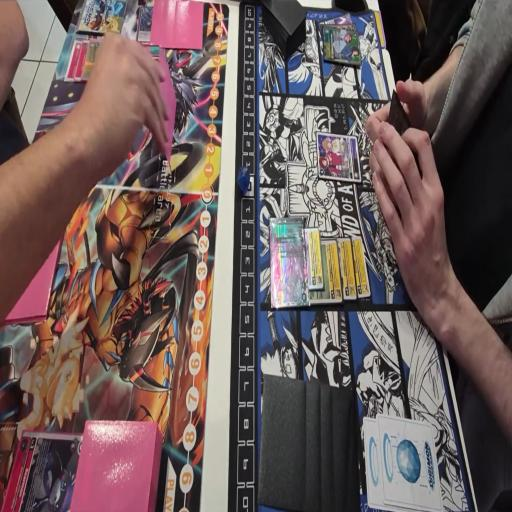card: (0, 430, 88, 512), (268, 216, 310, 312), (315, 132, 363, 187), (307, 235, 342, 308), (350, 236, 374, 302), (338, 236, 360, 300), (303, 224, 324, 291), (320, 29, 360, 64), (81, 36, 104, 82), (136, 2, 154, 53), (64, 42, 84, 81), (72, 40, 89, 82)
